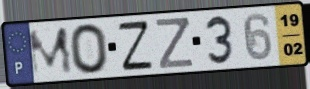3: (204, 14, 234, 67)
6: (242, 11, 275, 63)
M: (25, 25, 76, 79)
O: (67, 22, 111, 76)
Z: (154, 16, 195, 71), (116, 19, 155, 73)
